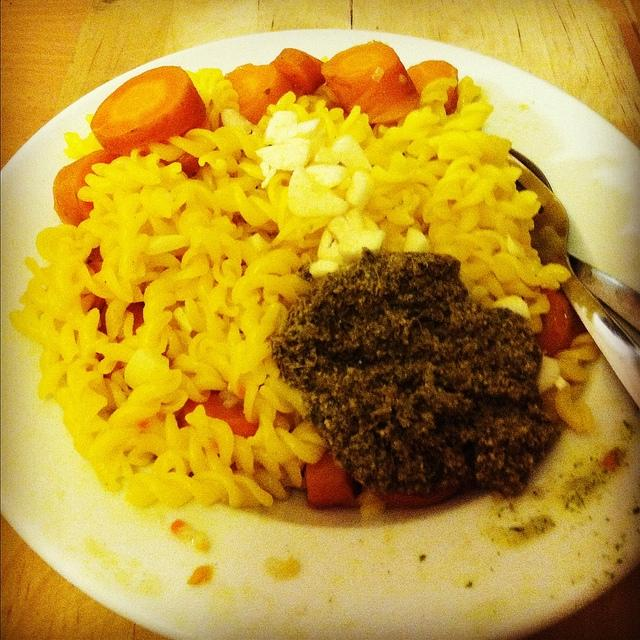carrot: (90, 67, 206, 157), (320, 40, 421, 126), (52, 150, 122, 228), (210, 64, 292, 128), (173, 390, 259, 440), (306, 449, 363, 508), (536, 294, 587, 356), (269, 48, 325, 103), (407, 60, 459, 114), (160, 152, 210, 178)
